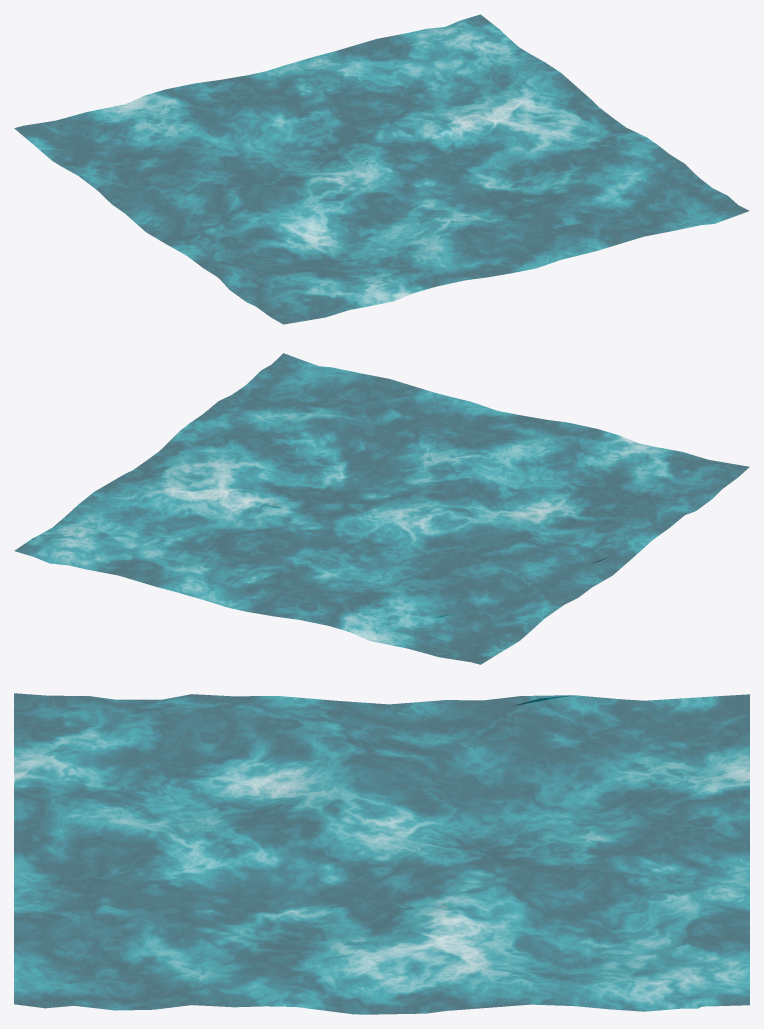
3 views of the same model, one above another, from view 1: azimuth 30°, elevation 25°; view 2: azimuth 150°, elevation 25°; view 3: azimuth 270°, elevation 25° (orthographic). The views are drawn at different scales.
Parts seen in each view (by area): view 1: Ocean.001; view 2: Ocean.001; view 3: Ocean.001.
Boxes of the visible parts, x1,y1,x2,y2 form: Ocean.001: (14, 14, 749, 324); Ocean.001: (14, 353, 749, 664); Ocean.001: (14, 693, 749, 1014).
Bounding box in the file's own units: 4 × 0.111 × 4.
Materials: 1 (1 with a texture image).
